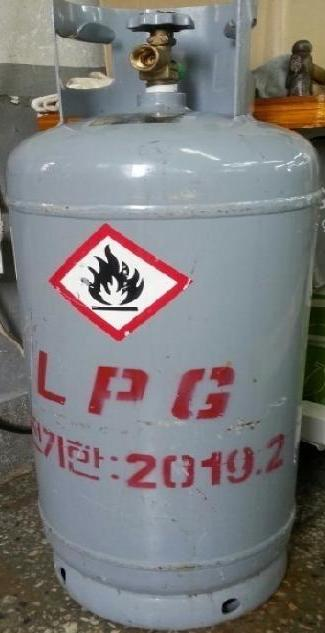cylinder: (1, 0, 325, 633)
